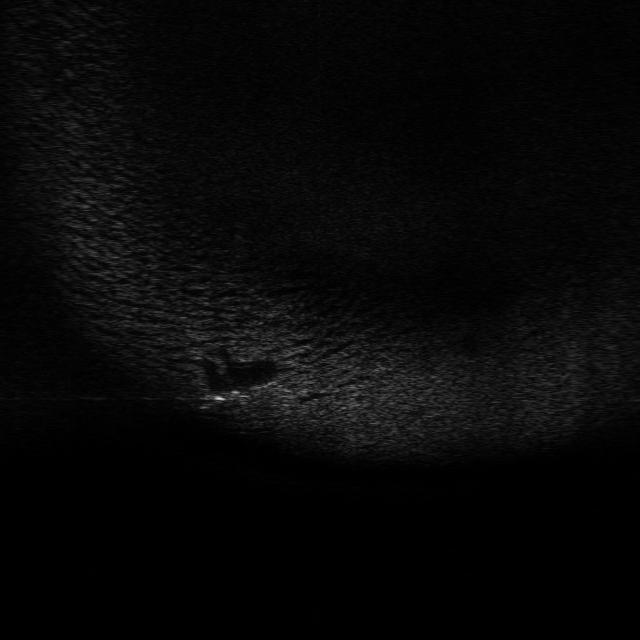plane: (194, 380, 278, 410)
